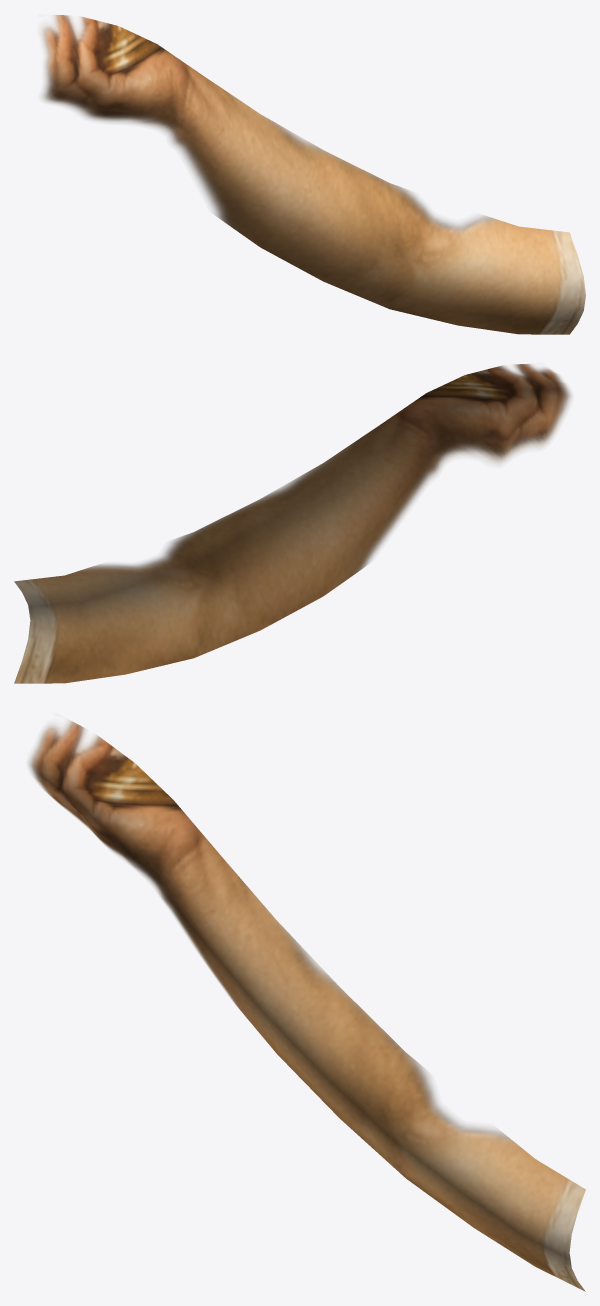
File: painted-arm.glb
3 views of the same model, one above another, from view 1: azimuth 30°, elevation 25°; view 2: azimuth 150°, elevation 25°; view 3: azimuth 330°, elevation 25° (orthographic).
Visible parts, largest first — view 1: MIDIS_Arm_3D_Painted_Rig; view 2: MIDIS_Arm_3D_Painted_Rig; view 3: MIDIS_Arm_3D_Painted_Rig.
Boxes of the visible parts, <box> form: MIDIS_Arm_3D_Painted_Rig: <box>41,15,585,334</box>; MIDIS_Arm_3D_Painted_Rig: <box>14,364,570,683</box>; MIDIS_Arm_3D_Painted_Rig: <box>29,720,585,1291</box>.
Bounding box in the file's own units: 0.6872 × 0.5316 × 0.035.
Materials: 1 (1 with a texture image).
